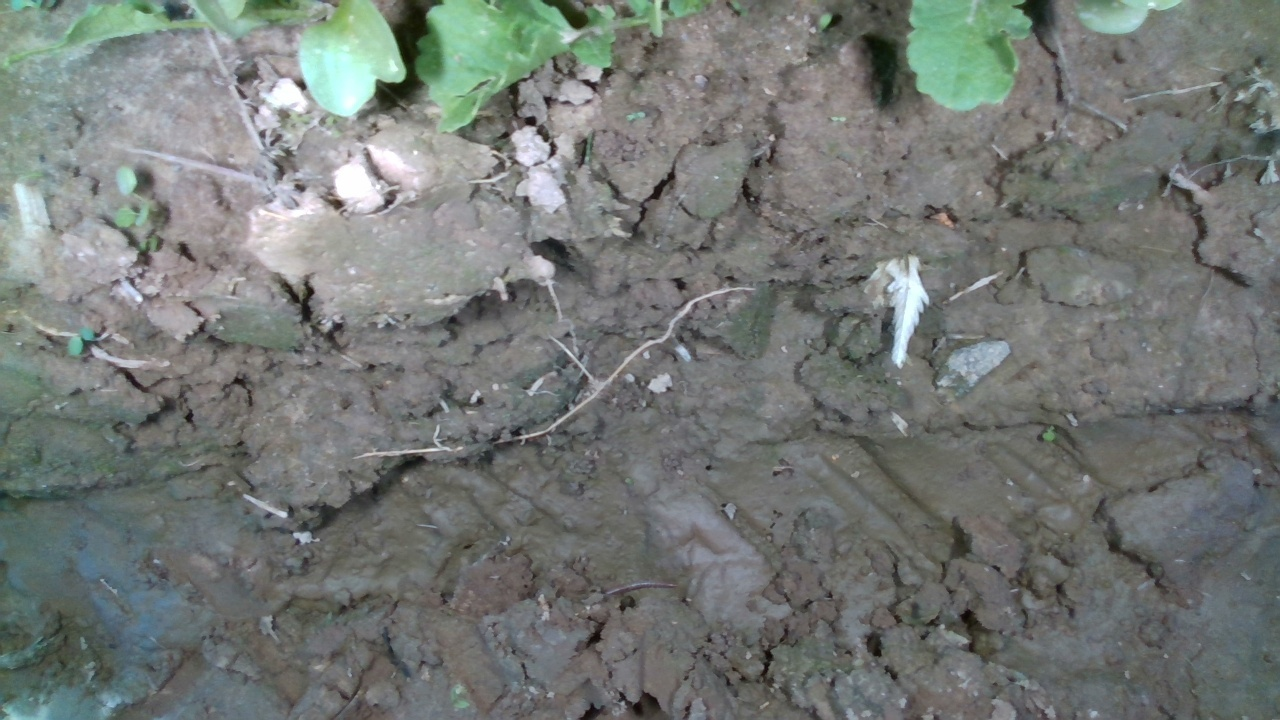weed: (65, 320, 96, 357), (828, 114, 847, 123)
